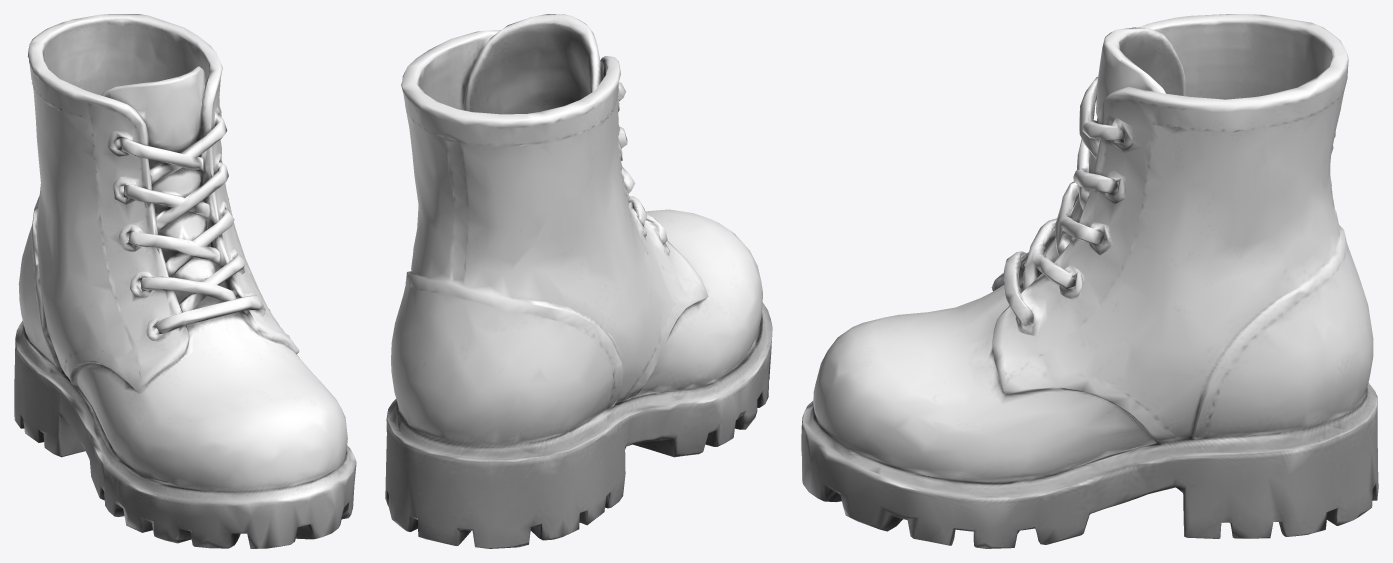
Rendered from shoe-boot.glb.
The picture shows the model from 3 angles, left to right: view 1: azimuth 30°, elevation 25°; view 2: azimuth 150°, elevation 25°; view 3: azimuth 270°, elevation 25°; orthographic projection. The views are drawn at different scales.
Visible parts, largest first — view 1: tripo_node_068e4091-924c-4c5f-9550-050523875b3c; view 2: tripo_node_068e4091-924c-4c5f-9550-050523875b3c; view 3: tripo_node_068e4091-924c-4c5f-9550-050523875b3c.
Boxes of the visible parts, x1=… form: tripo_node_068e4091-924c-4c5f-9550-050523875b3c: x1=14, y1=14, x2=356, y2=548; tripo_node_068e4091-924c-4c5f-9550-050523875b3c: x1=385, y1=14, x2=772, y2=548; tripo_node_068e4091-924c-4c5f-9550-050523875b3c: x1=801, y1=14, x2=1378, y2=548.
Size of the model in its own units: 0.1426 by 0.25 by 0.2876.
Materials: 1 (1 with a texture image).
